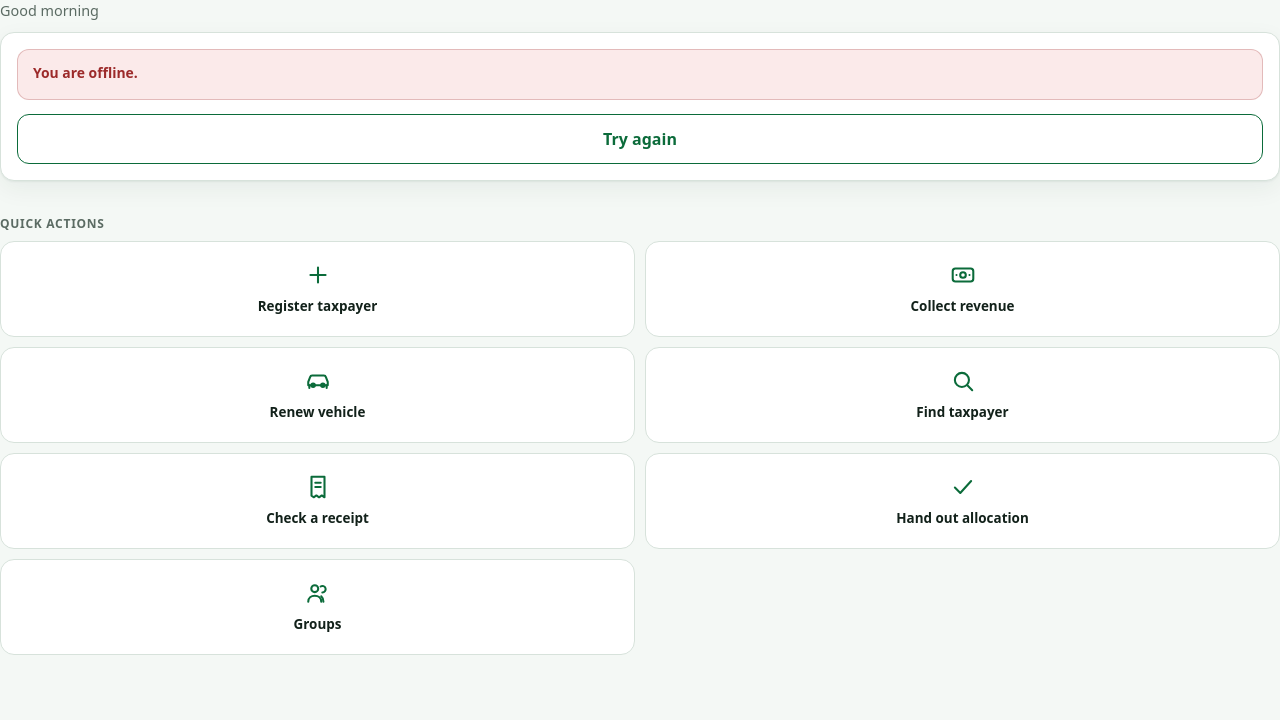
Scenario: an agent whose home screen could not be read › comes back when the signal does, without leaving the screen
This screenshot has width=1280, height=720.
Click the button "Try again" at (640, 140), box x1=17 y1=114 x2=1263 y2=164
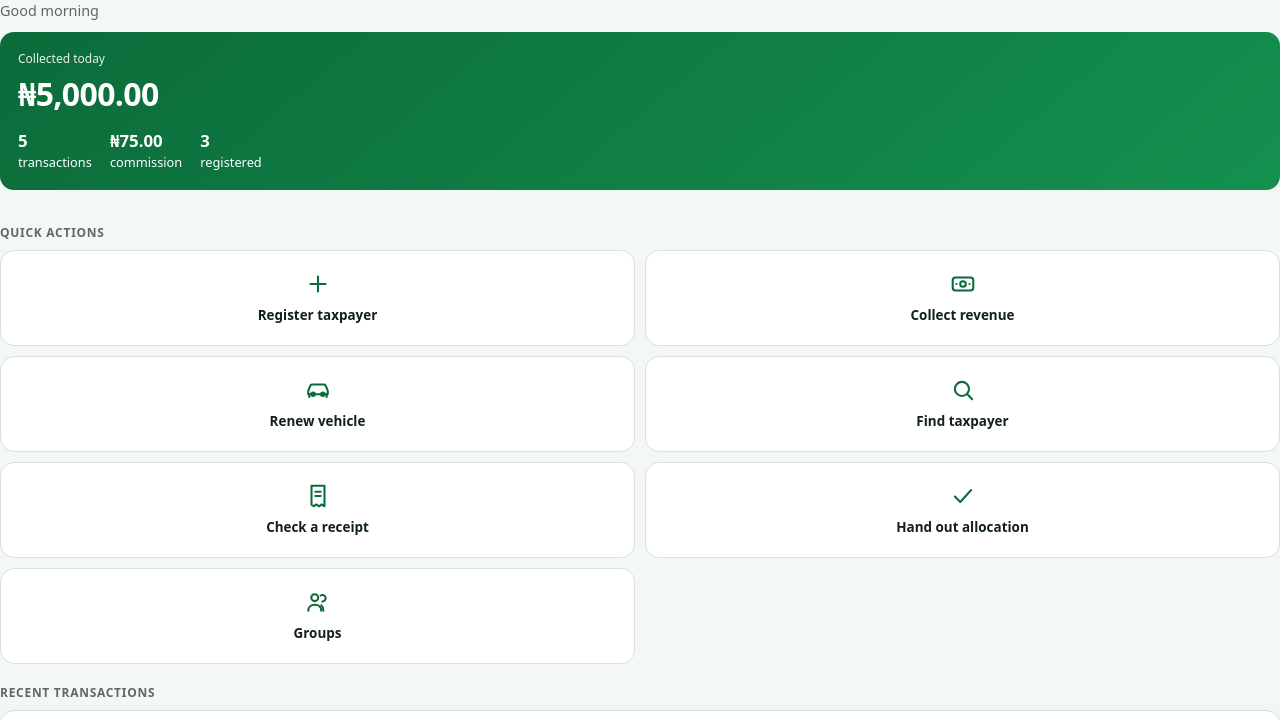
Expected: the text "Collected today" is shown, x1=18 y1=50 x2=105 y2=67
Expected: the text "You are offline." is gone
Expected: the button "Try again" is gone
